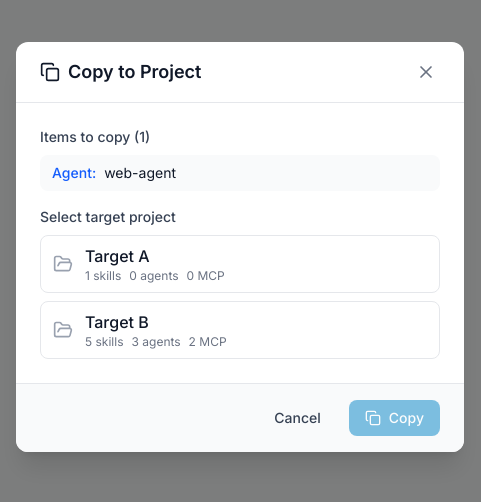
Test: CopyToProjectModal › shows error message after failed copy
The image size is (481, 502).
Click the text "Target A": click(117, 256) [85,246,150,266]
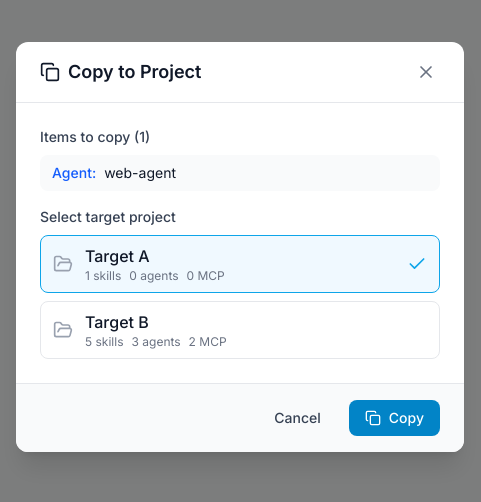
Click the button "Copy": click(394, 418) [349,400,440,436]
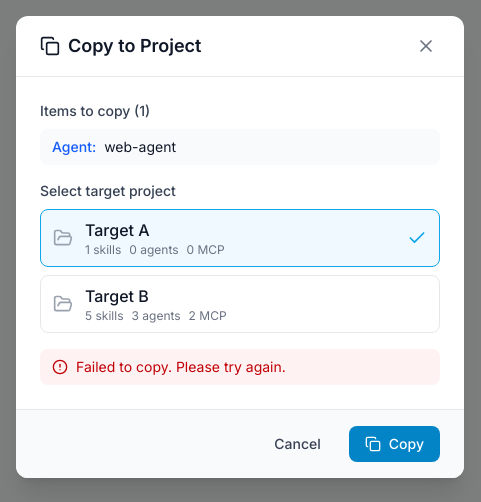
Expected: the text "Failed to copy. Please try again." is shown, [40,349,440,385]
